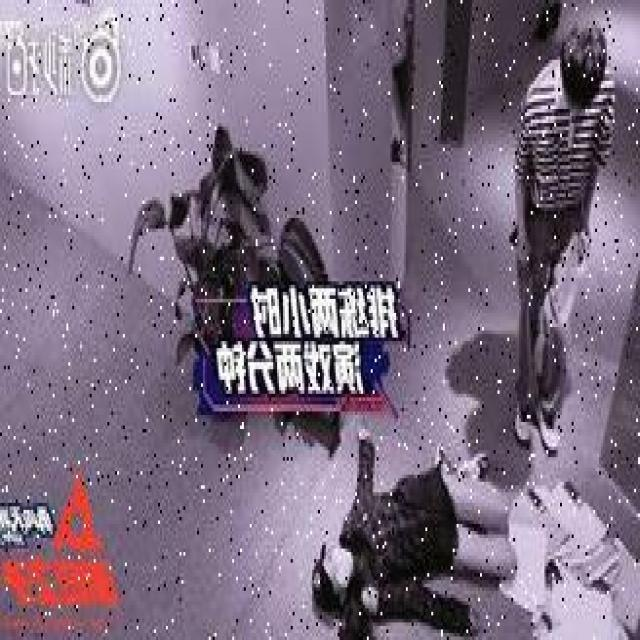fall: (314, 444, 513, 636)
